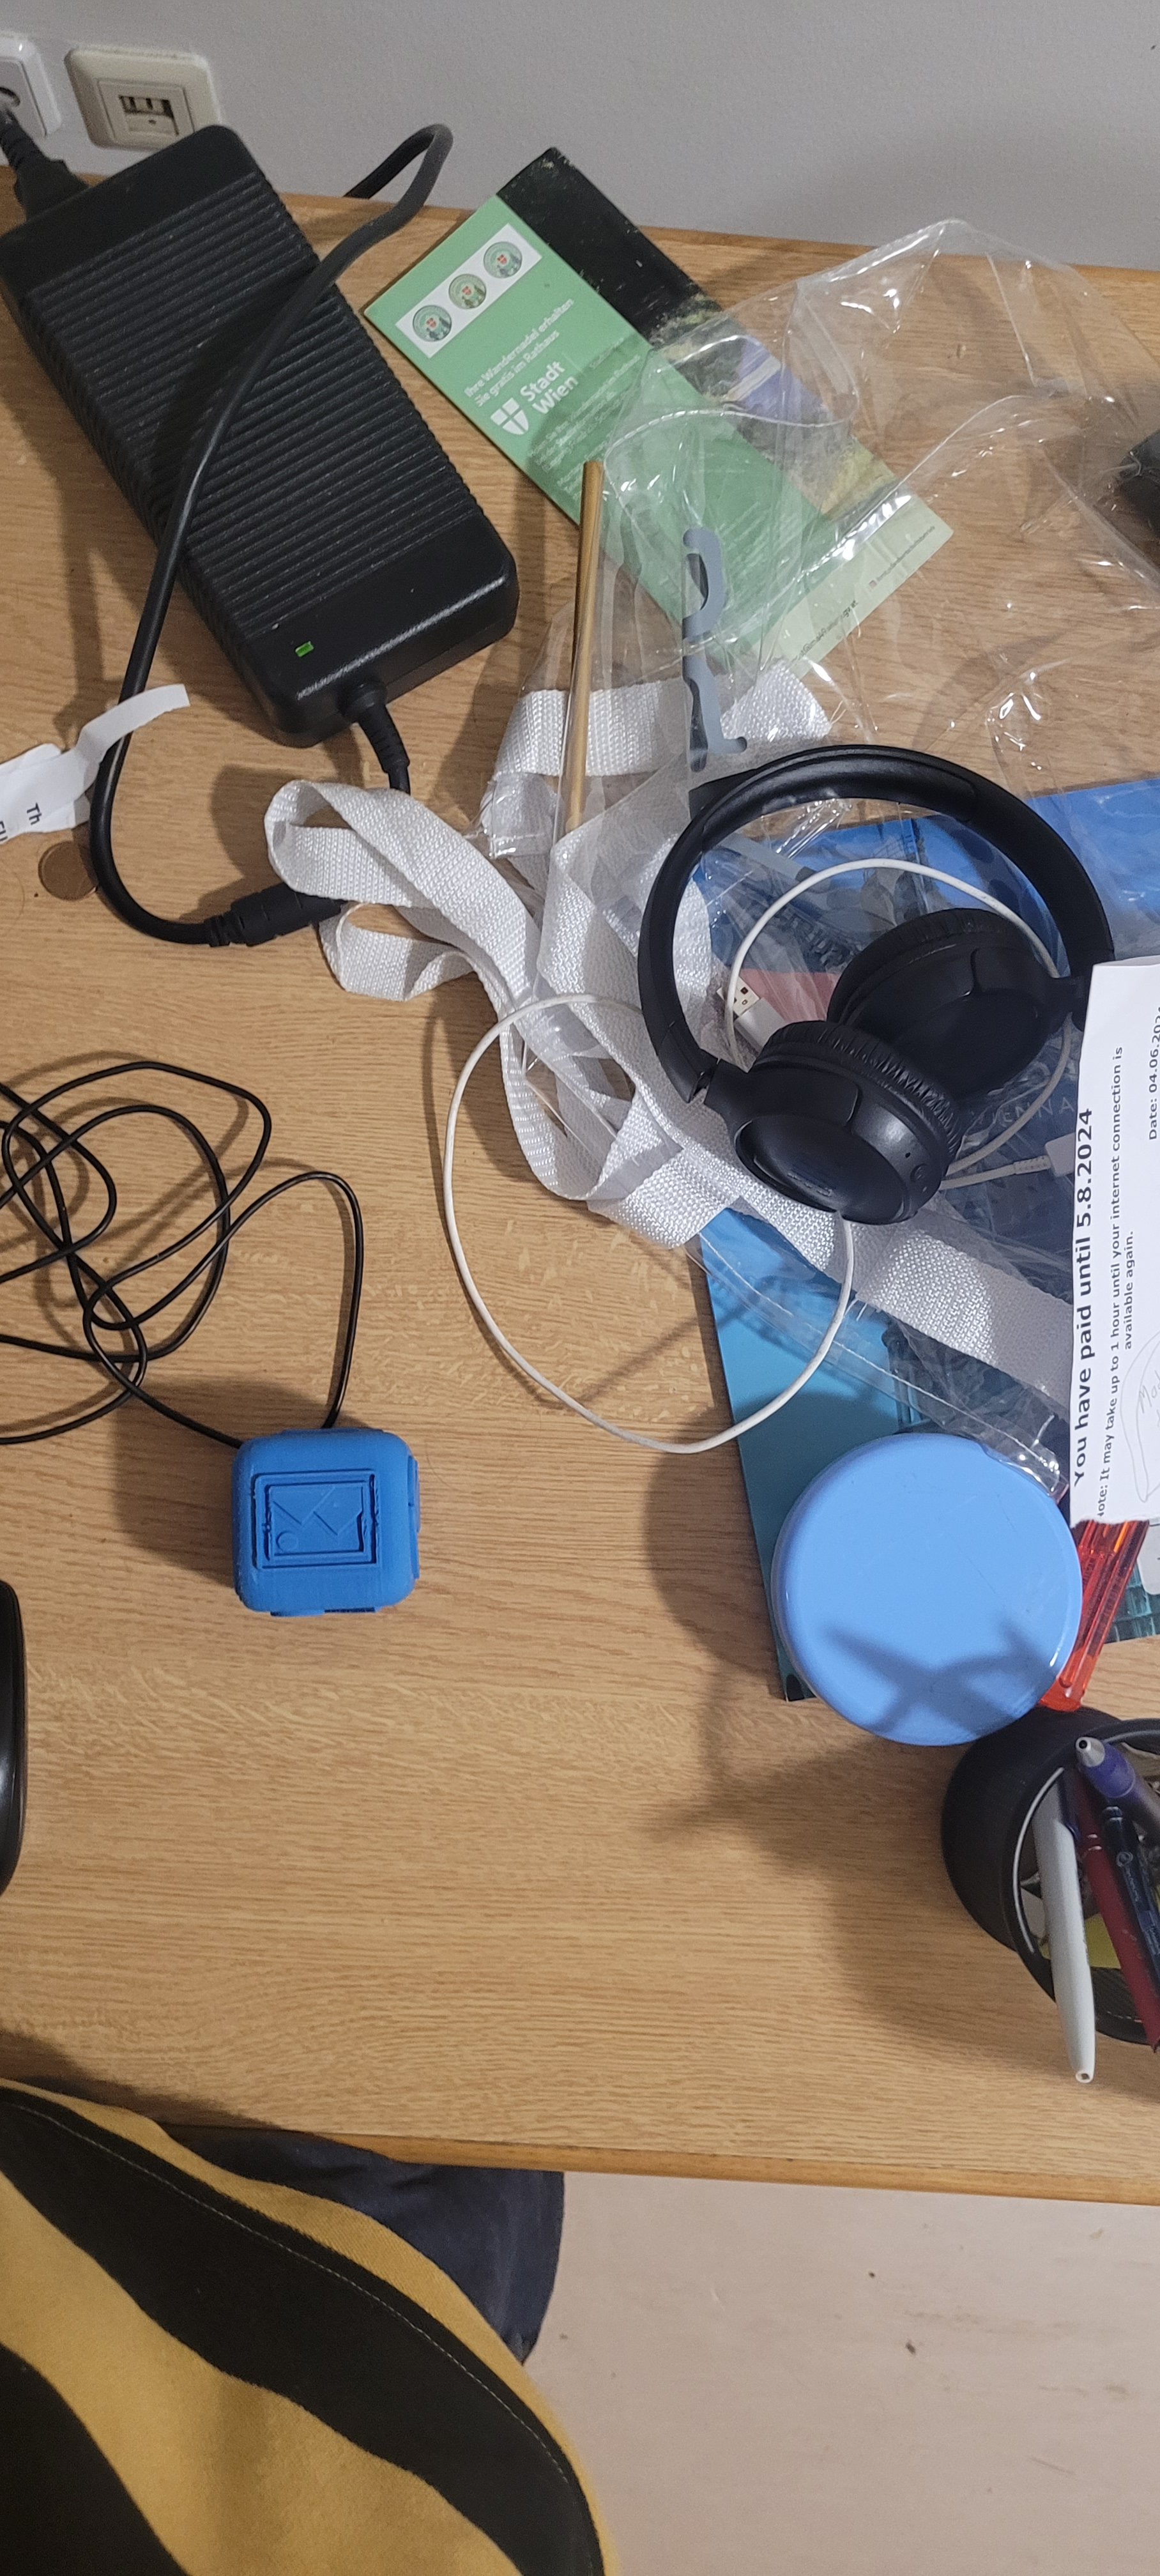Story: (242, 1447, 419, 1602)
